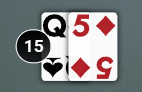5: (66, 11, 94, 40)
q: (40, 11, 67, 40)
